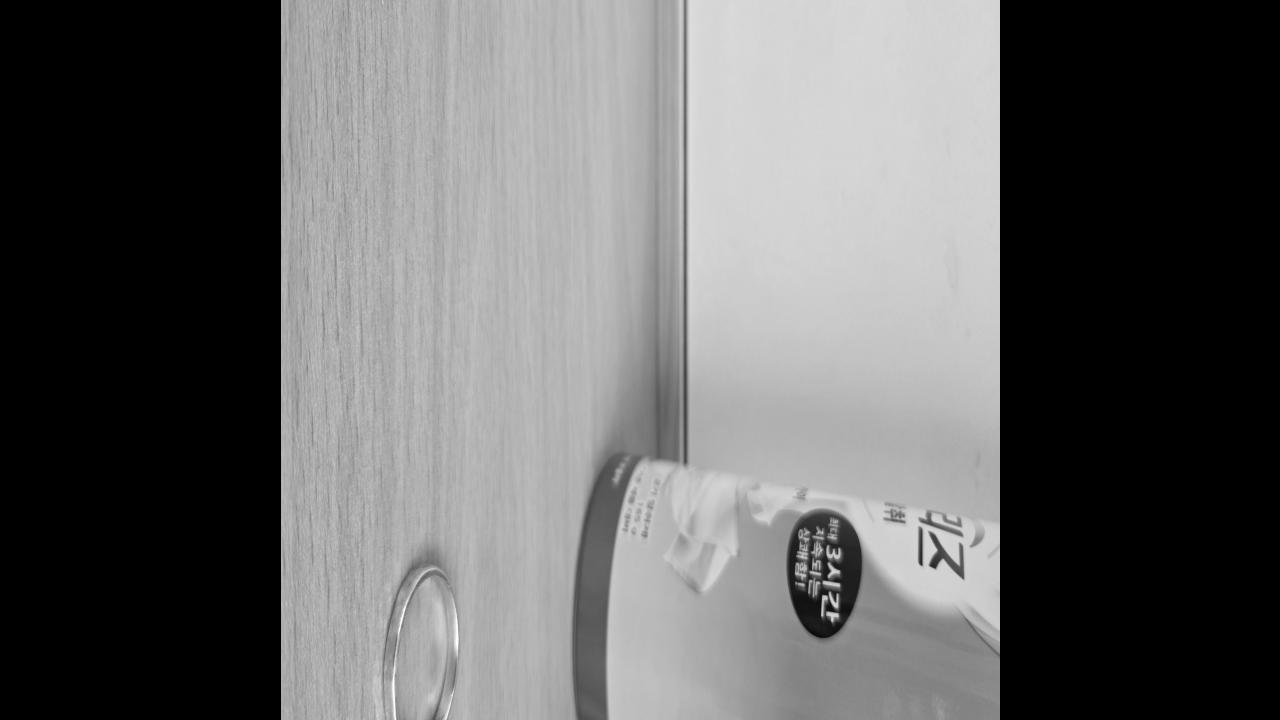ring: (382, 556, 460, 720)
